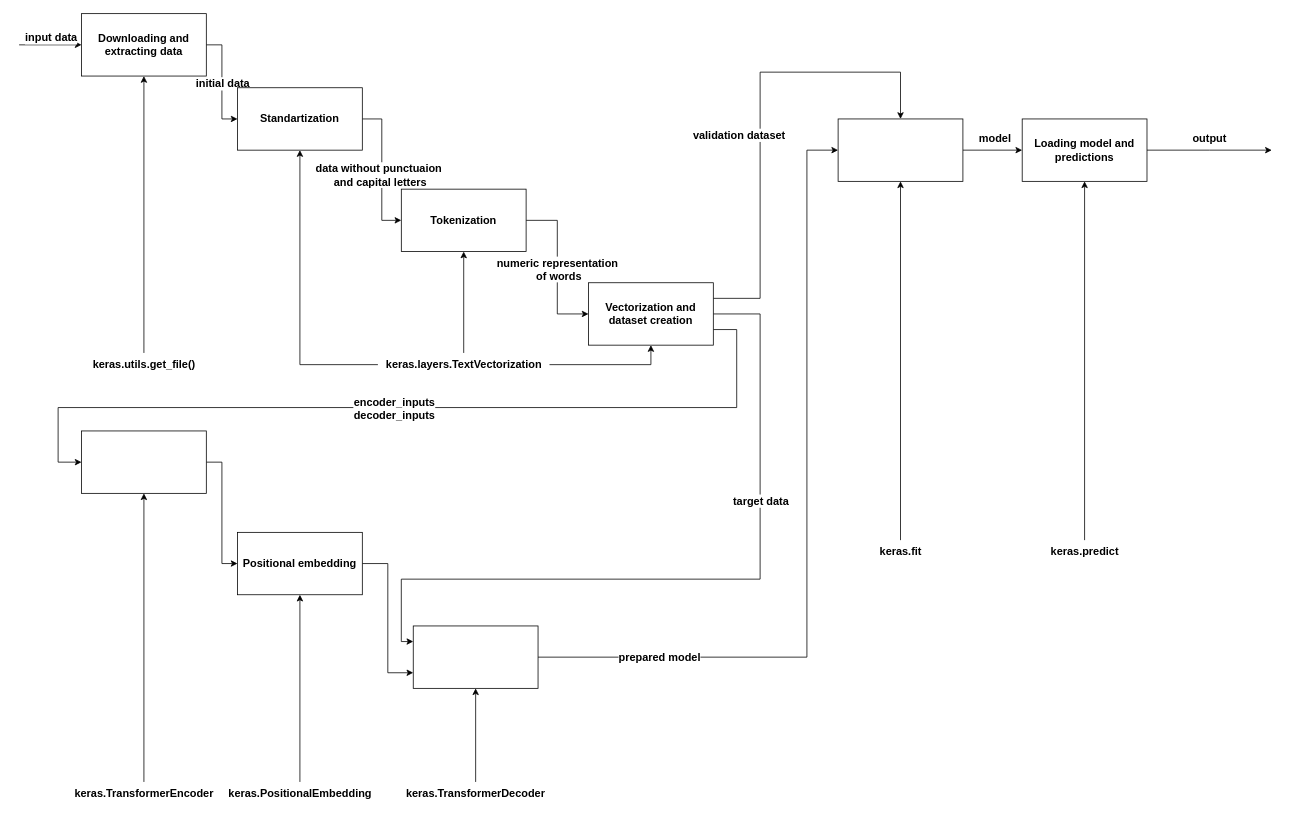
Some shapes in this 1292 by 819 pixel diagram are drawn without their labels. Here are the shapes that lost their labels. From the top down, the centre of each, then its label:
point 900,149: Model training
point 143,461: Transformer encoder
point 475,656: Transformer decoder
